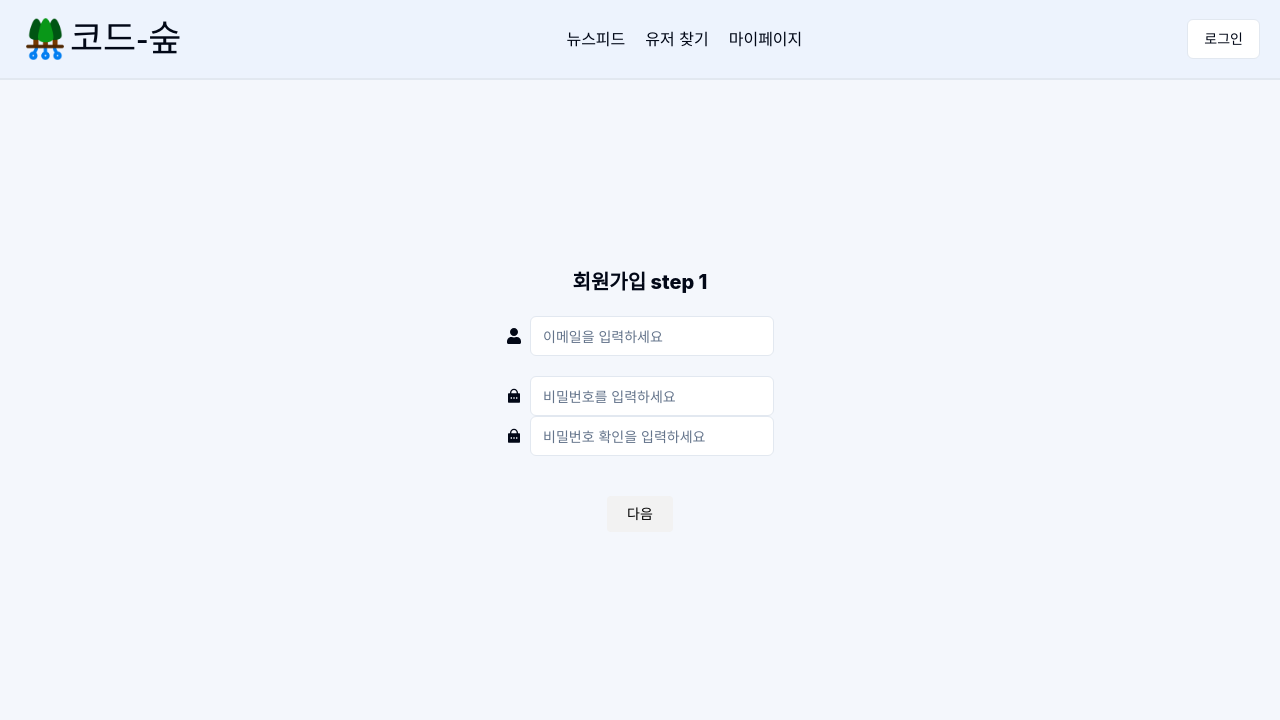
회원가입 1단계 › 이메일이 유효하지 않을 경우 알림 메세지가 나온다
This screenshot has width=1280, height=720.
Type "test@test" into the field with test id "emailInput" at (652, 336), box [530,316,774,356]
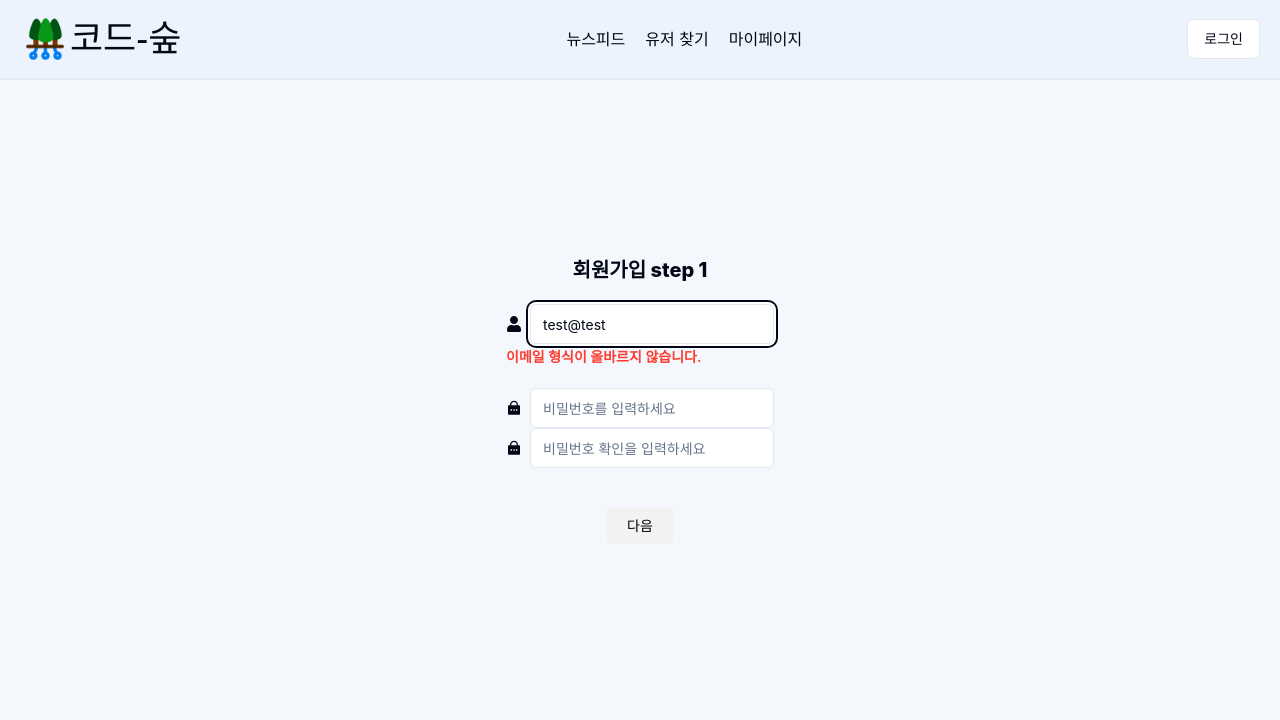
Expected: the text with test id "isEmailValidMessage" reads "이메일 형식이 올바르지 않습니다.", [506,348,701,365]
